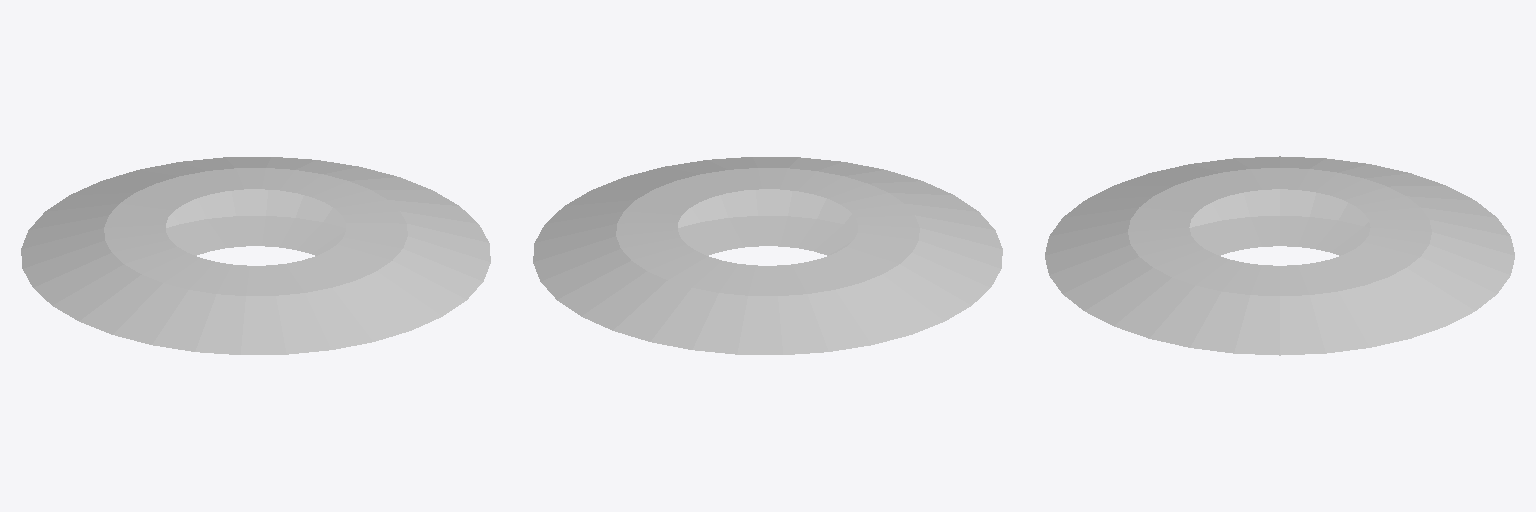
The model's file is slash2.obj.
The picture shows the model from 3 angles: view 1: azimuth 30°, elevation 25°; view 2: azimuth 150°, elevation 25°; view 3: azimuth 270°, elevation 25°; orthographic projection.
Parts seen in each view (by area): view 1: slashmesh; view 2: slashmesh; view 3: slashmesh.
Boxes of the visible parts, <box> form: slashmesh: <box>21,157,490,354</box>; slashmesh: <box>533,157,1002,354</box>; slashmesh: <box>1045,156,1514,355</box>.
Bounding box in the file's own units: 5.2 × 0.694 × 5.2.